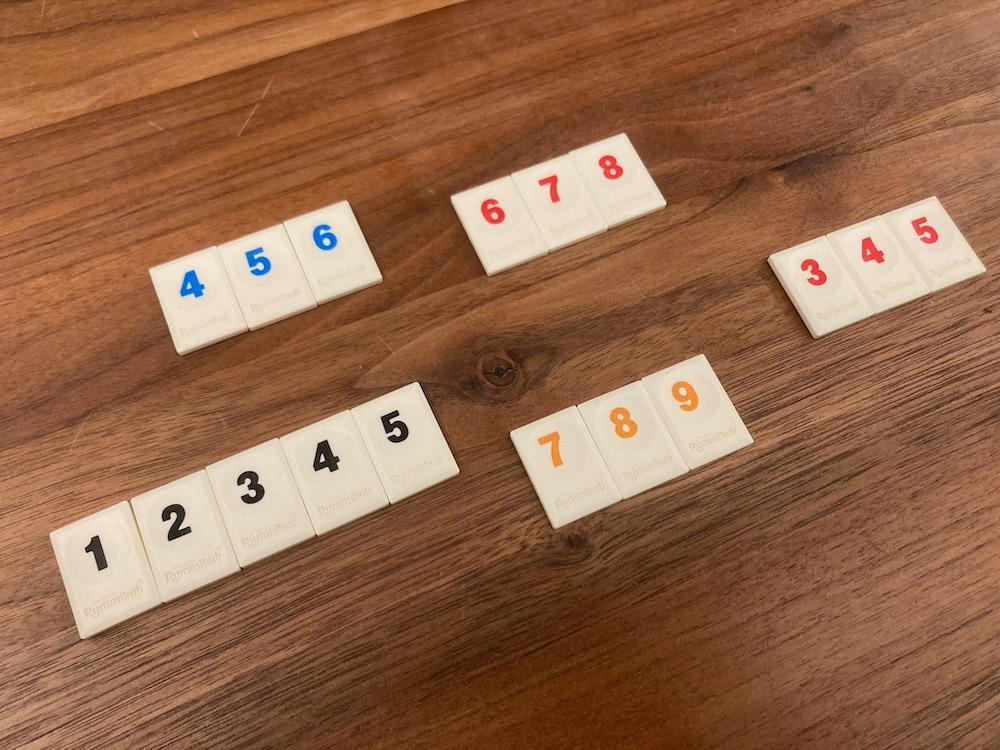black_1: (51, 502, 160, 639)
black_2: (131, 471, 240, 602)
black_3: (207, 439, 314, 566)
black_4: (279, 410, 389, 535)
black_5: (352, 383, 459, 504)
blue_4: (150, 246, 248, 355)
blue_5: (217, 225, 316, 330)
blue_6: (283, 201, 383, 303)
orange_7: (510, 406, 621, 529)
orange_8: (578, 381, 689, 498)
orange_9: (643, 355, 752, 469)
red_3: (768, 236, 873, 338)
red_4: (828, 217, 930, 312)
red_5: (884, 197, 986, 291)
red_6: (452, 176, 549, 275)
red_7: (513, 154, 607, 250)
red_8: (568, 133, 666, 227)
